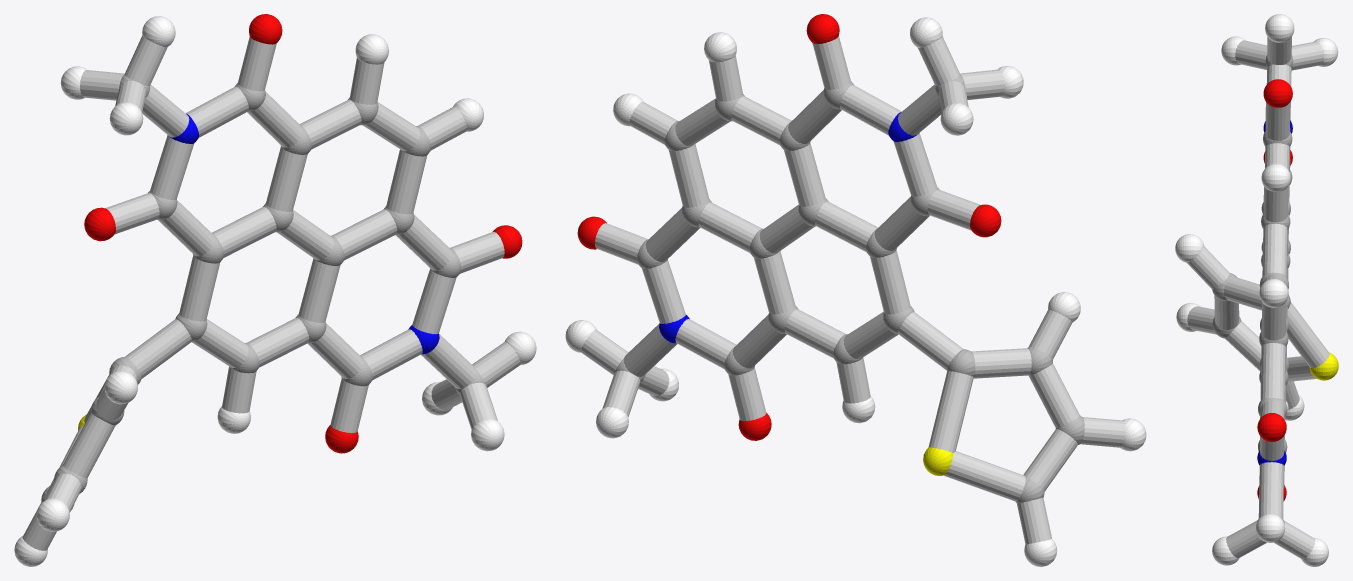
File: Dimethyl_Naphthalene_Dicarboximide_Phi_25_Theta_310_Thiophene.glb
The picture shows the model from 3 angles, left to right: view 1: azimuth 30°, elevation 25°; view 2: azimuth 150°, elevation 25°; view 3: azimuth 270°, elevation 25°; orthographic projection. The views are drawn at different scales.
Parts seen in each view (by area): view 1: grp14119, grp7241, grp1, grp12309, grp11585; view 2: grp14119, grp7241, grp1, grp12309, grp11585; view 3: grp14119, grp7241, grp1, grp12309, grp13757, grp11585.
Boxes of the visible parts, bbox=[...] form: grp14119: bbox=[22, 35, 520, 550]; grp7241: bbox=[14, 16, 536, 566]; grp1: bbox=[41, 74, 485, 510]; grp12309: bbox=[84, 14, 522, 453]; grp11585: bbox=[168, 113, 439, 354]; grp14119: bbox=[580, 36, 1125, 544]; grp7241: bbox=[565, 17, 1146, 566]; grp1: bbox=[615, 74, 1084, 503]; grp12309: bbox=[577, 14, 1001, 440]; grp11585: bbox=[659, 112, 918, 343]; grp14119: bbox=[1187, 36, 1329, 559]; grp7241: bbox=[1175, 14, 1338, 566]; grp1: bbox=[1212, 54, 1293, 523]; grp12309: bbox=[1257, 79, 1292, 500]; grp13757: bbox=[1309, 352, 1338, 380]; grp11585: bbox=[1257, 120, 1292, 465].
Size of the model in its own units: 11.15 by 10.28 by 3.34.
